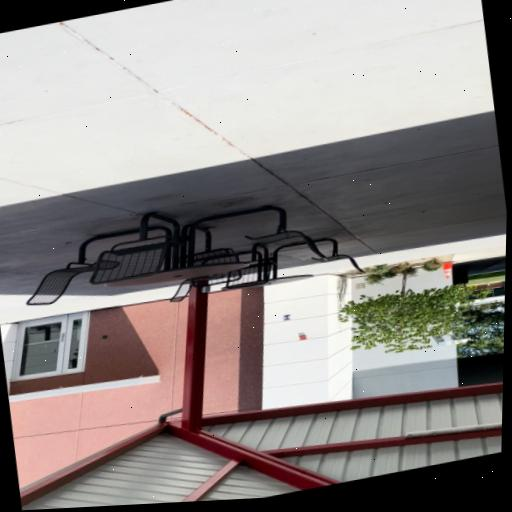target2: (282, 313, 292, 321)
